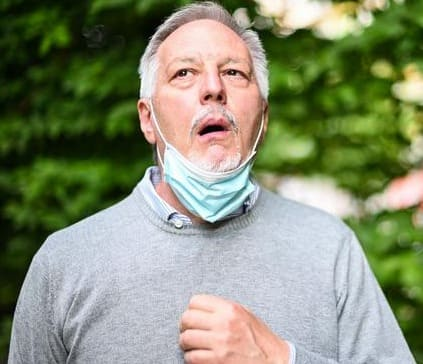with_incorrect_mask: (155, 27, 264, 219)
